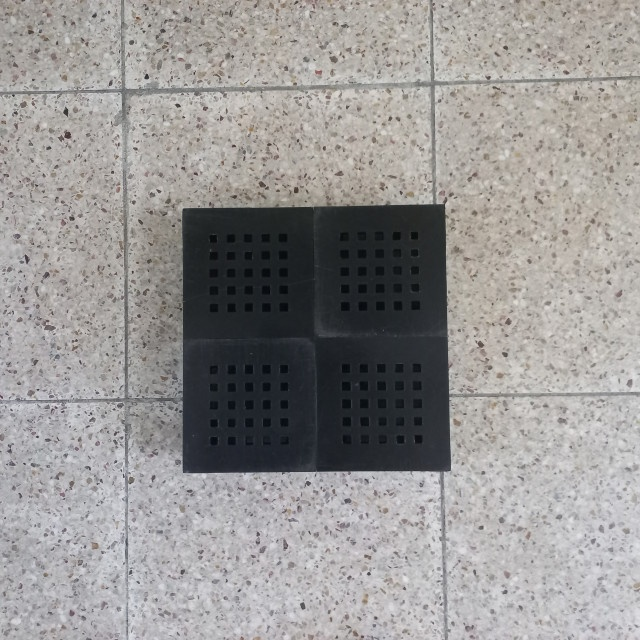pallet: (180, 200, 454, 476)
